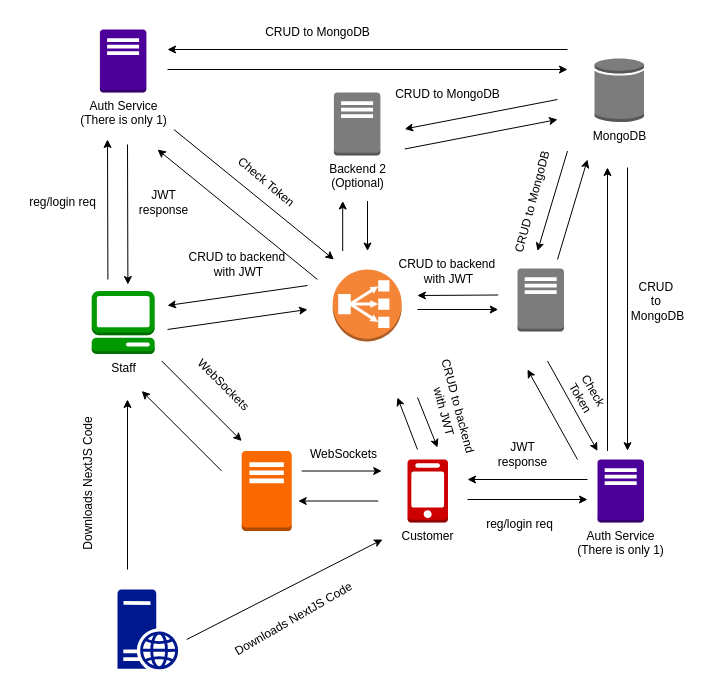
Image size: 714x689. Some labels were removed from this diagram. Each missing label, with the centre of its shape:
"Backend 1" belongs at pixel 540 300.
"Backend NGINX (Load Balancer)" belongs at pixel 367 305.
"Socket Service" belongs at pixel 266 490.
